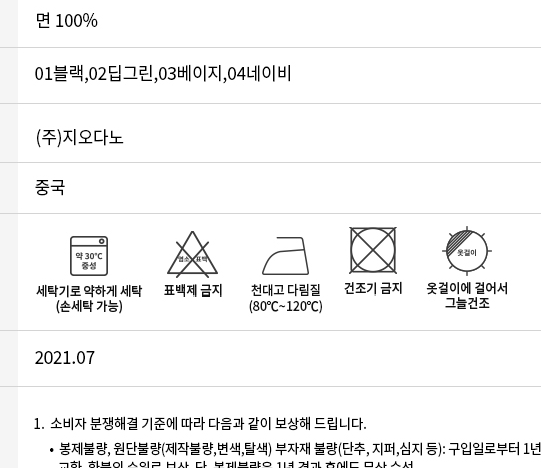KR_hang_dry_in_shade: (440, 224, 494, 276)
KR_no_chlorine_bleach: (164, 228, 221, 280)
KR_no_tumble_dry: (344, 221, 401, 278)
KR_wash_warm_30_neutral: (63, 229, 114, 280)
